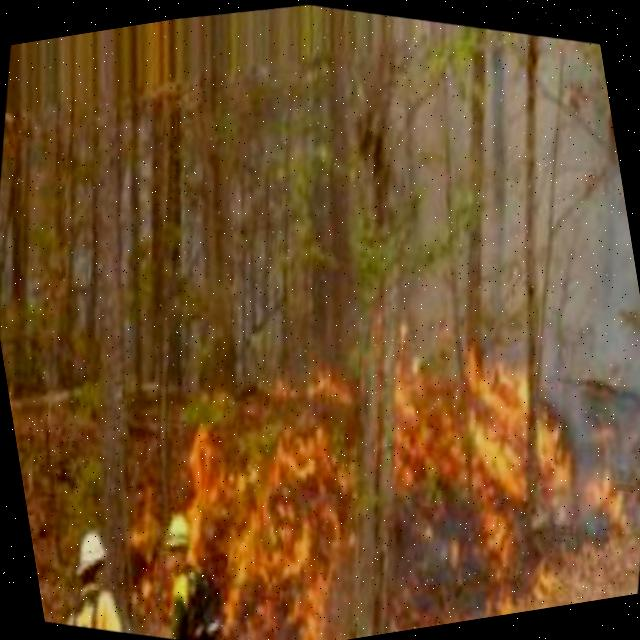fire: (344, 295, 598, 616), (145, 378, 394, 640)
